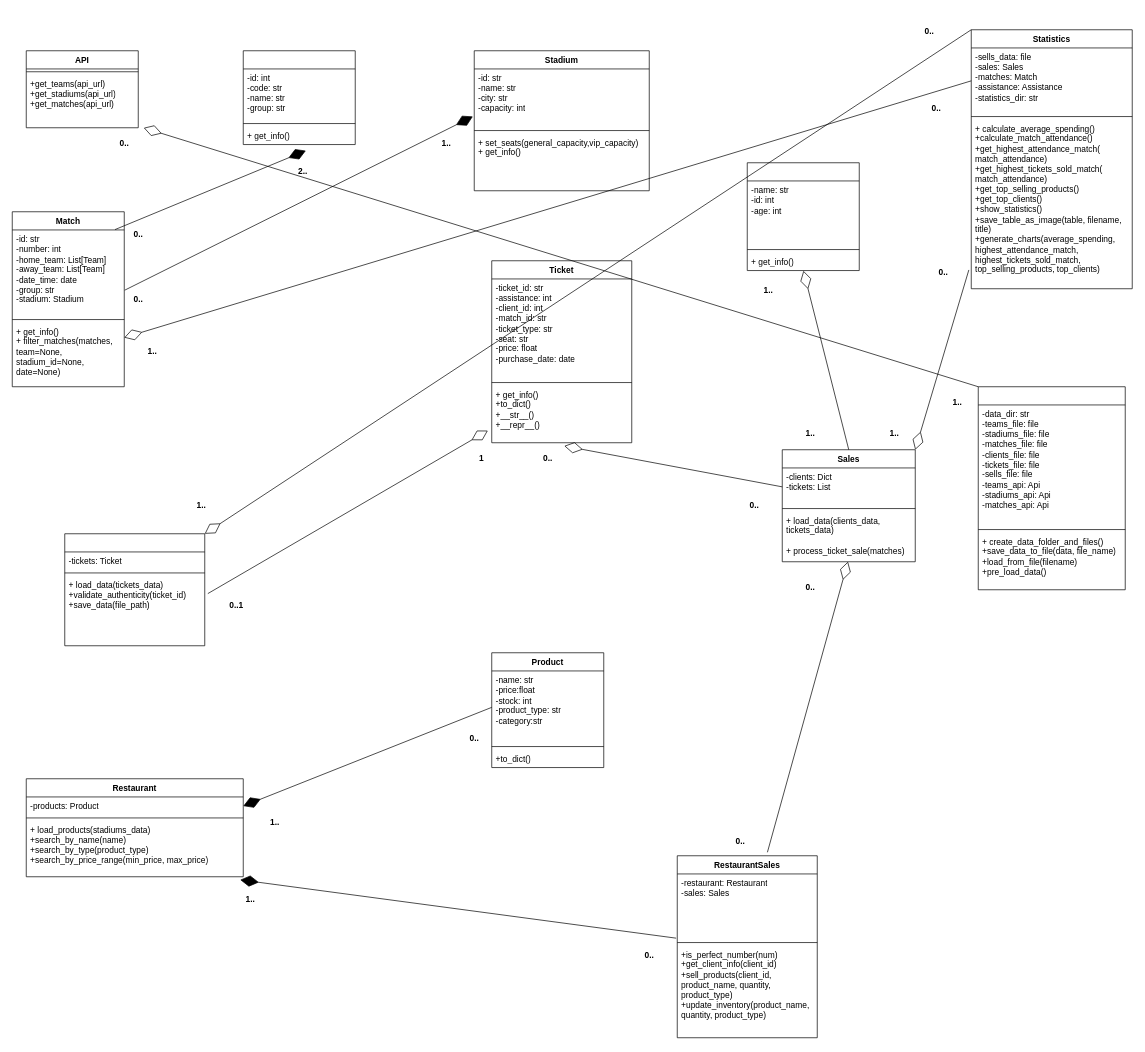
Some shapes in this 1145 by 1052 pixel diagram are drawn without their labels. Each missing label, with the box of its shape:
Assistance: (64, 533, 205, 646)
Client: (747, 162, 859, 271)
DataManager: (978, 386, 1125, 590)
Team: (243, 50, 355, 145)
